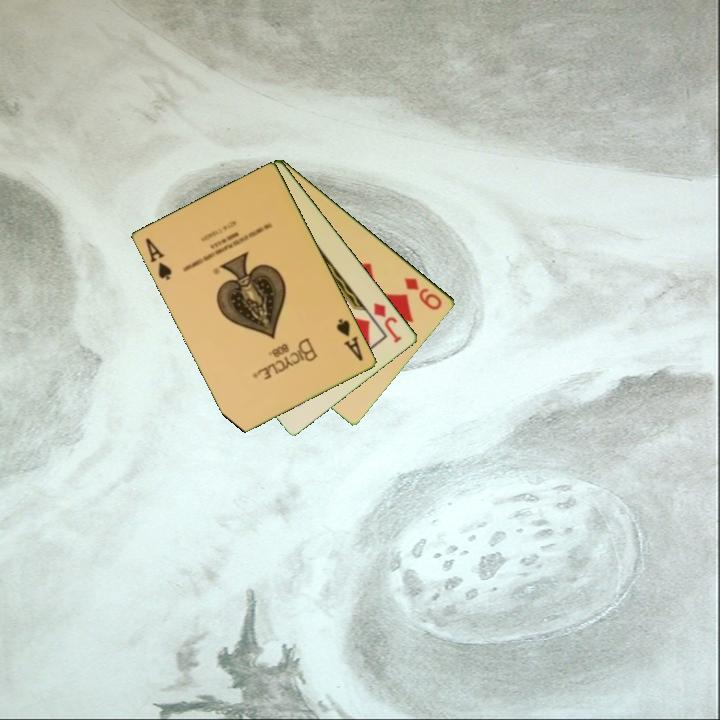9d: (401, 274, 445, 313)
As: (333, 315, 366, 364), (142, 234, 175, 283)
Jd: (370, 299, 405, 346)
